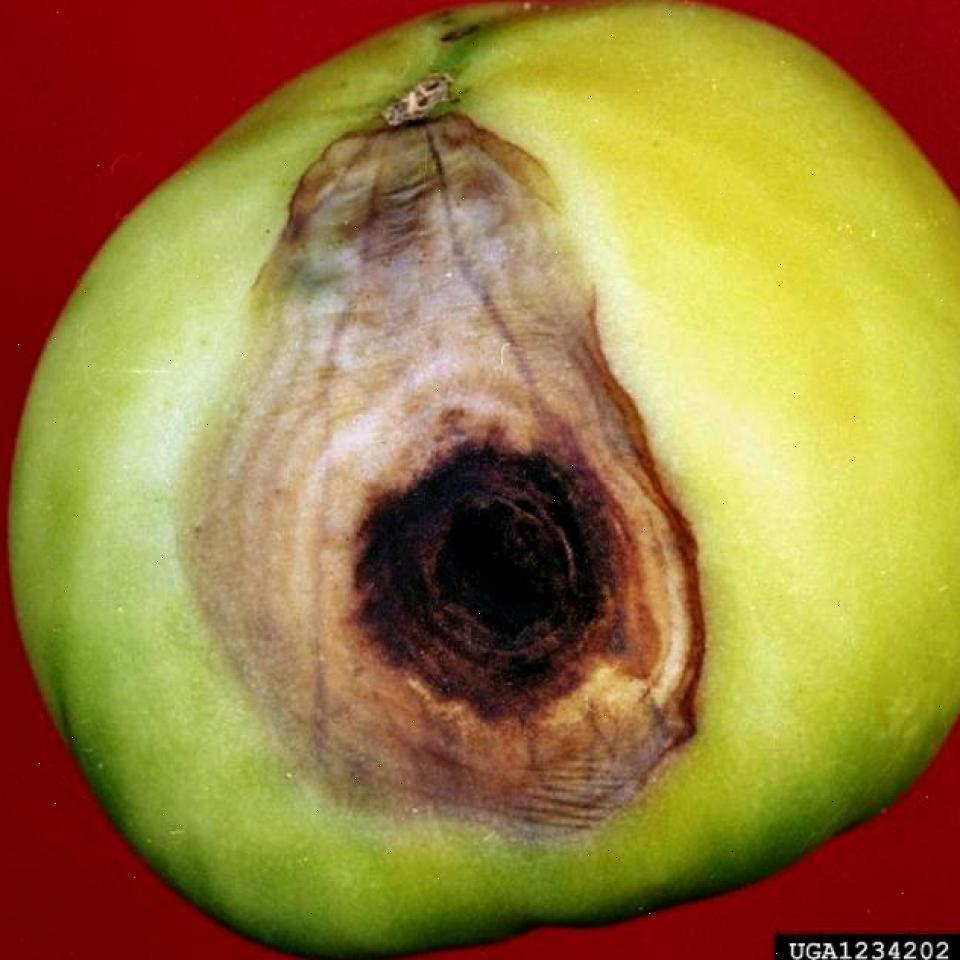Sunscald: (181, 65, 727, 869)
